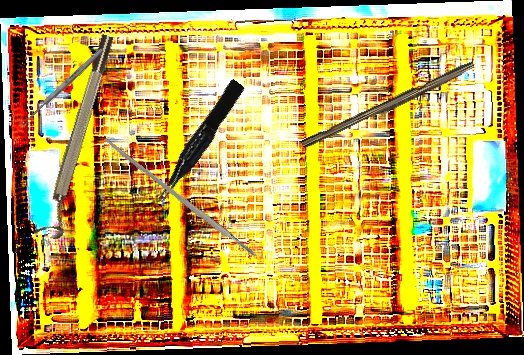Fixation Ring: (34, 32, 126, 242)
Scalpel Handle: (102, 136, 258, 260), (300, 58, 477, 154)
Surgical Spoon: (17, 46, 106, 129)
Tissue Forceps: (147, 78, 251, 205)
